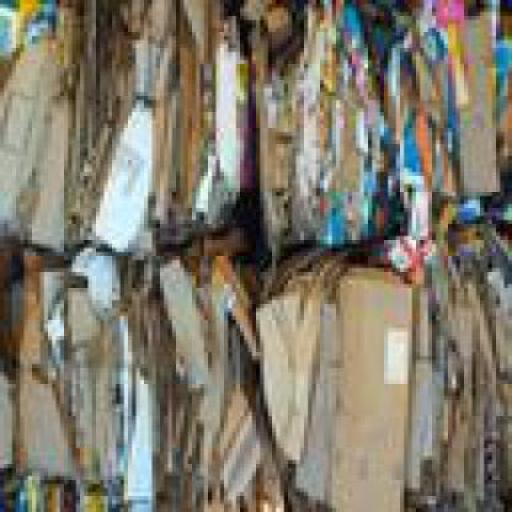cardboard: (4, 4, 510, 510), (4, 260, 156, 510), (252, 4, 388, 260), (372, 4, 508, 236), (144, 260, 265, 510), (412, 236, 511, 511), (4, 4, 96, 268), (92, 4, 176, 264), (336, 263, 417, 511), (176, 4, 252, 240), (260, 263, 332, 511)
